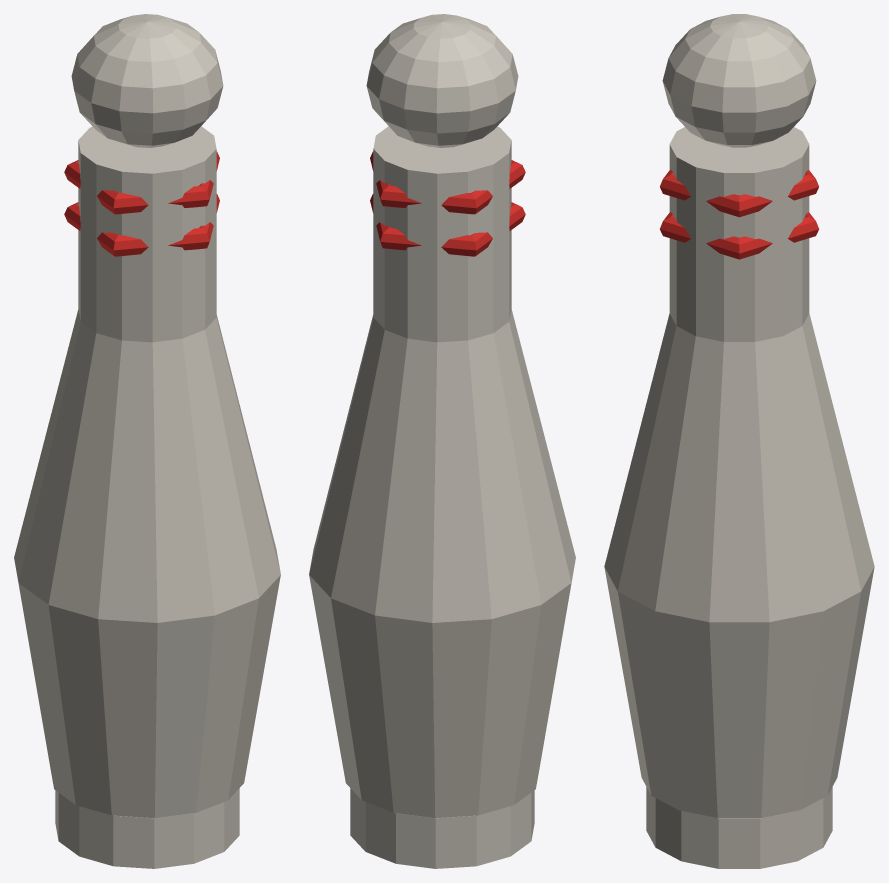
File: bowling_pin.glb
3 renders of one model, left to right at view 1: azimuth 30°, elevation 25°; view 2: azimuth 150°, elevation 25°; view 3: azimuth 270°, elevation 25°, orthographic.
Visible parts, largest first — view 1: bowling_pin; view 2: bowling_pin; view 3: bowling_pin.
Part boxes in pixels (x1=…): bowling_pin: x1=14, y1=14, x2=280, y2=868; bowling_pin: x1=309, y1=14, x2=575, y2=868; bowling_pin: x1=604, y1=14, x2=874, y2=868.
Size of the model in its own units: 0.1131 by 0.383 by 0.116.
